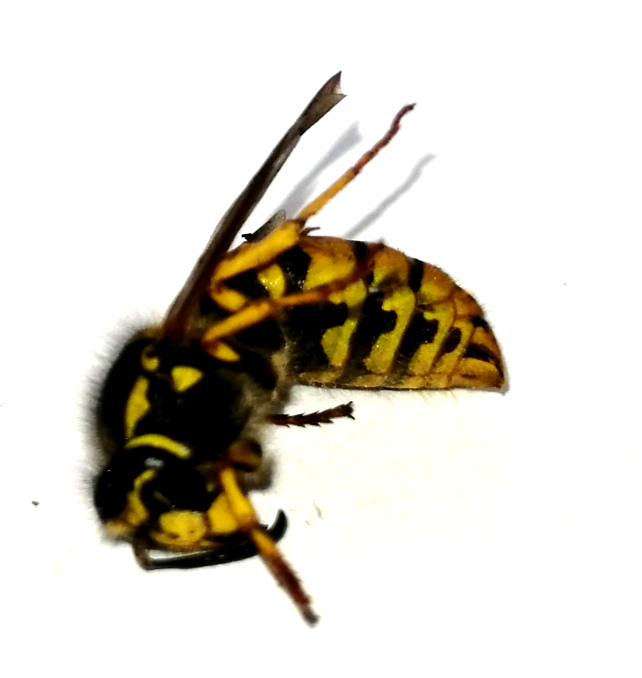chax: (67, 61, 528, 643)
